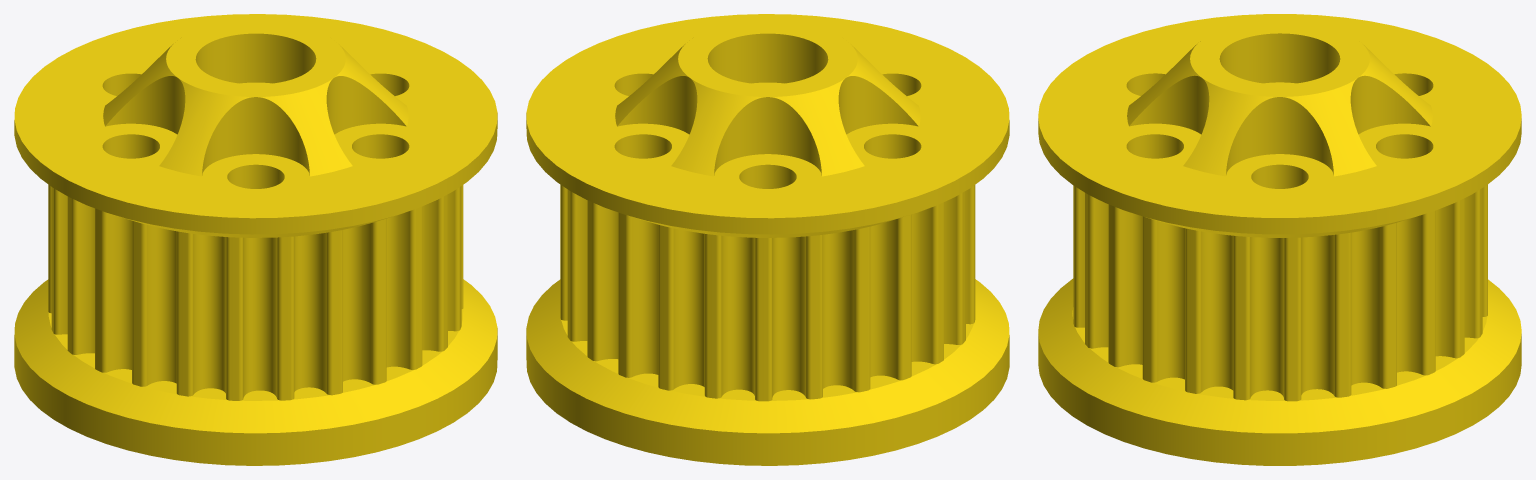
Rendered from A26_W107_motorPulley.gltf.
The picture shows the model from 3 angles, left to right: view 1: azimuth 30°, elevation 25°; view 2: azimuth 150°, elevation 25°; view 3: azimuth 270°, elevation 25°; orthographic projection.
Visible parts, largest first — view 1: mesh4652, mesh4849, mesh4660, mesh4661, mesh4639, mesh4638, mesh4642, mesh4713, mesh4720, mesh4706, mesh4650, mesh4640 (+54 smaller); view 2: mesh4652, mesh4849, mesh4660, mesh4661, mesh4639, mesh4638, mesh4644, mesh4769, mesh4776, mesh4762, mesh4783, mesh4643 (+51 smaller); view 3: mesh4652, mesh4849, mesh4660, mesh4661, mesh4639, mesh4638, mesh4648, mesh4832, mesh4825, mesh4839, mesh4647, mesh4649 (+53 smaller).
Part boxes in pixels (x1=…): mesh4652: x1=14, y1=14, x2=497, y2=218; mesh4849: x1=14, y1=279, x2=497, y2=433; mesh4660: x1=14, y1=328, x2=497, y2=465; mesh4661: x1=14, y1=113, x2=497, y2=234; mesh4639: x1=166, y1=21, x2=345, y2=96; mesh4638: x1=195, y1=33, x2=316, y2=83; mesh4642: x1=202, y1=97, x2=309, y2=175; mesh4713: x1=246, y1=237, x2=273, y2=393; mesh4720: x1=199, y1=234, x2=225, y2=392; mesh4706: x1=294, y1=233, x2=319, y2=391; mesh4650: x1=258, y1=79, x2=352, y2=176; mesh4640: x1=159, y1=79, x2=253, y2=176; mesh4652: x1=526, y1=14, x2=1009, y2=218; mesh4849: x1=526, y1=279, x2=1009, y2=433; mesh4660: x1=526, y1=328, x2=1009, y2=465; mesh4661: x1=526, y1=113, x2=1009, y2=234; mesh4639: x1=678, y1=21, x2=857, y2=96; mesh4638: x1=707, y1=33, x2=828, y2=83; mesh4644: x1=714, y1=97, x2=821, y2=175; mesh4769: x1=774, y1=237, x2=800, y2=393; mesh4776: x1=727, y1=236, x2=753, y2=393; mesh4762: x1=823, y1=231, x2=846, y2=388; mesh4783: x1=682, y1=230, x2=704, y2=386; mesh4643: x1=770, y1=79, x2=864, y2=176; mesh4652: x1=1038, y1=14, x2=1521, y2=217; mesh4849: x1=1038, y1=278, x2=1521, y2=433; mesh4660: x1=1038, y1=334, x2=1521, y2=465; mesh4661: x1=1038, y1=118, x2=1521, y2=234; mesh4639: x1=1190, y1=21, x2=1369, y2=96; mesh4638: x1=1219, y1=33, x2=1340, y2=83; mesh4648: x1=1226, y1=97, x2=1333, y2=174; mesh4832: x1=1254, y1=237, x2=1281, y2=393; mesh4825: x1=1302, y1=235, x2=1328, y2=392; mesh4839: x1=1208, y1=232, x2=1233, y2=390; mesh4647: x1=1283, y1=79, x2=1376, y2=176; mesh4649: x1=1183, y1=79, x2=1276, y2=176.
Size of the model in its own units: 0.0268 by 0.0187 by 0.0269.
